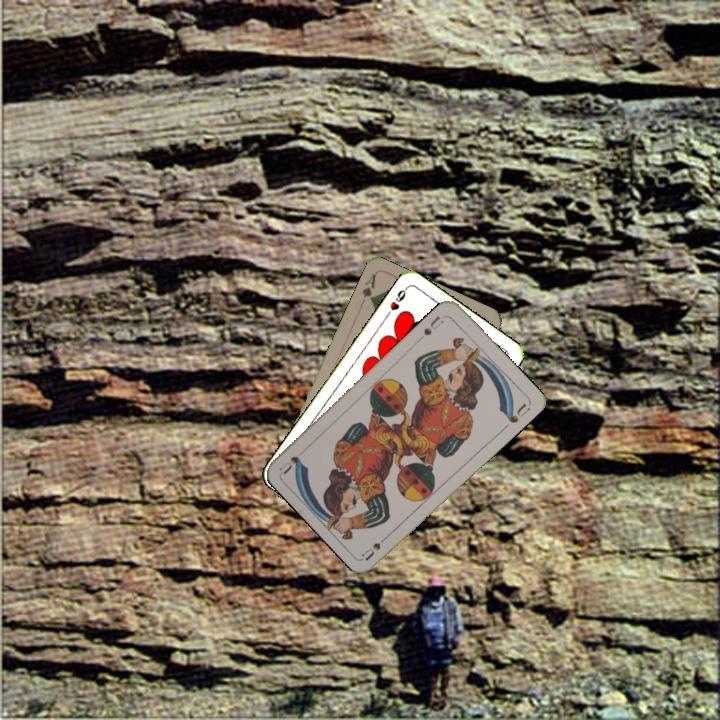GA: (358, 270, 379, 305)
H9: (382, 283, 410, 319)
SU: (359, 529, 393, 562), (420, 311, 448, 338)
